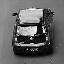motor: (12, 10, 49, 54)
